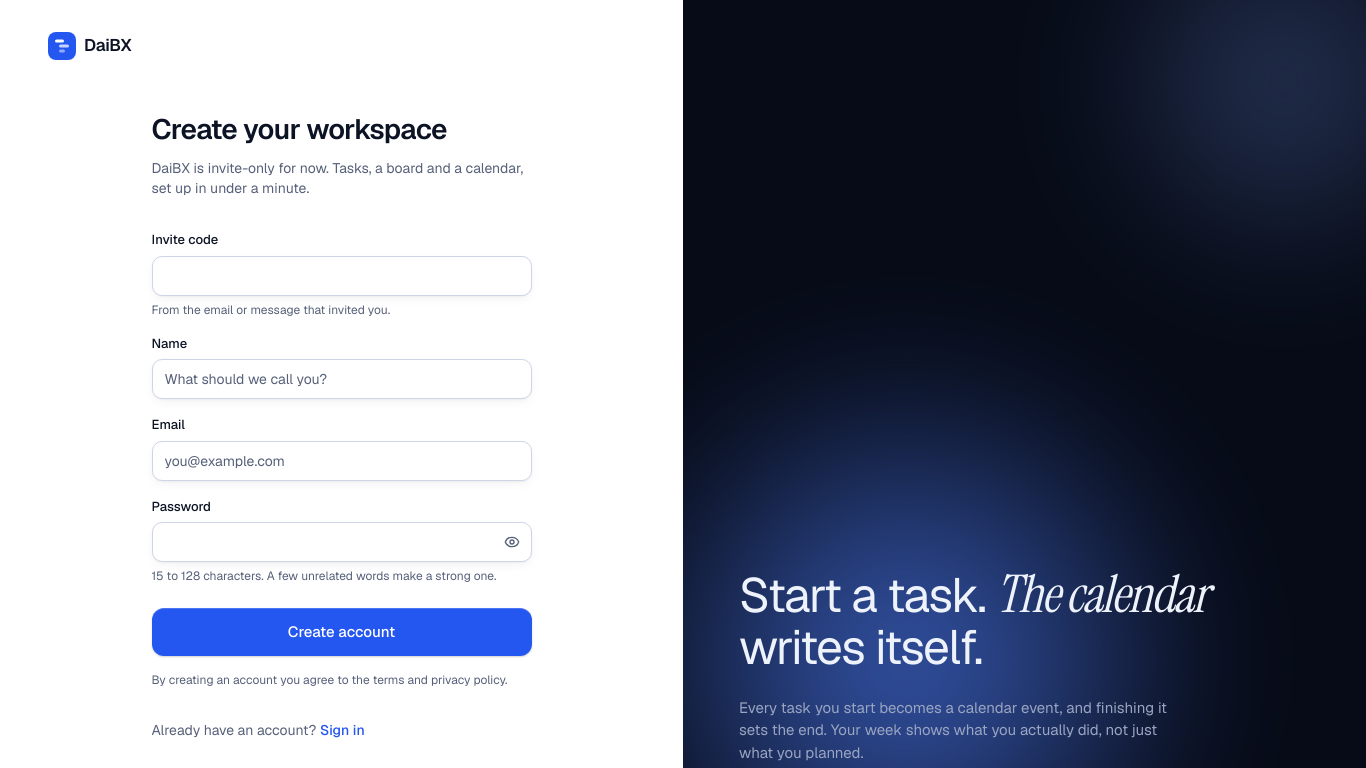
Test: an invalid invite shows the backend message
The width and height of the screenshot is (1366, 768).
Type "K7QM-2XRD-9FTB-0011" into the field labelled "Invite code" at [342, 276], box [152, 256, 532, 296]
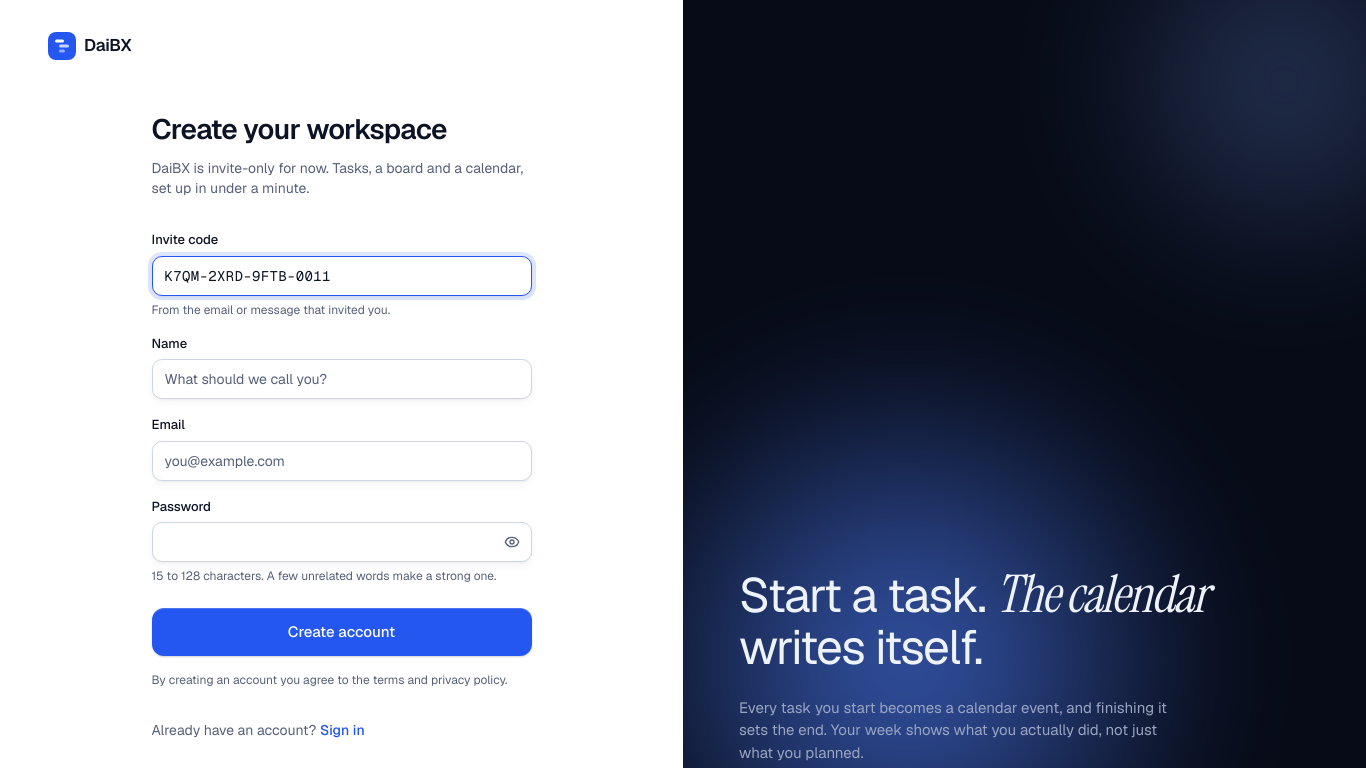
Type "Shan Padayhag" into the field labelled "Name" at [342, 379], box [152, 359, 532, 399]
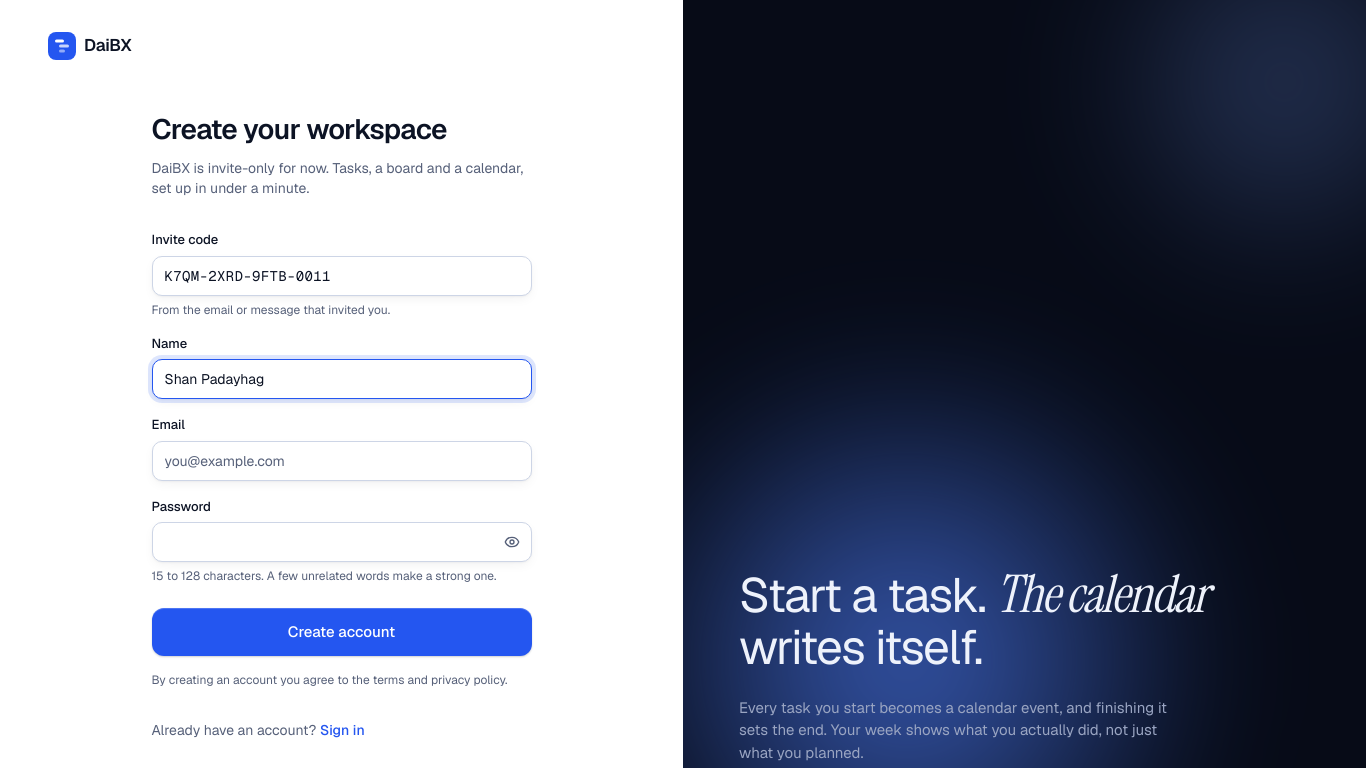
Type "shan@daibx.test" into the field labelled "Email" at [342, 460], box [152, 440, 532, 480]
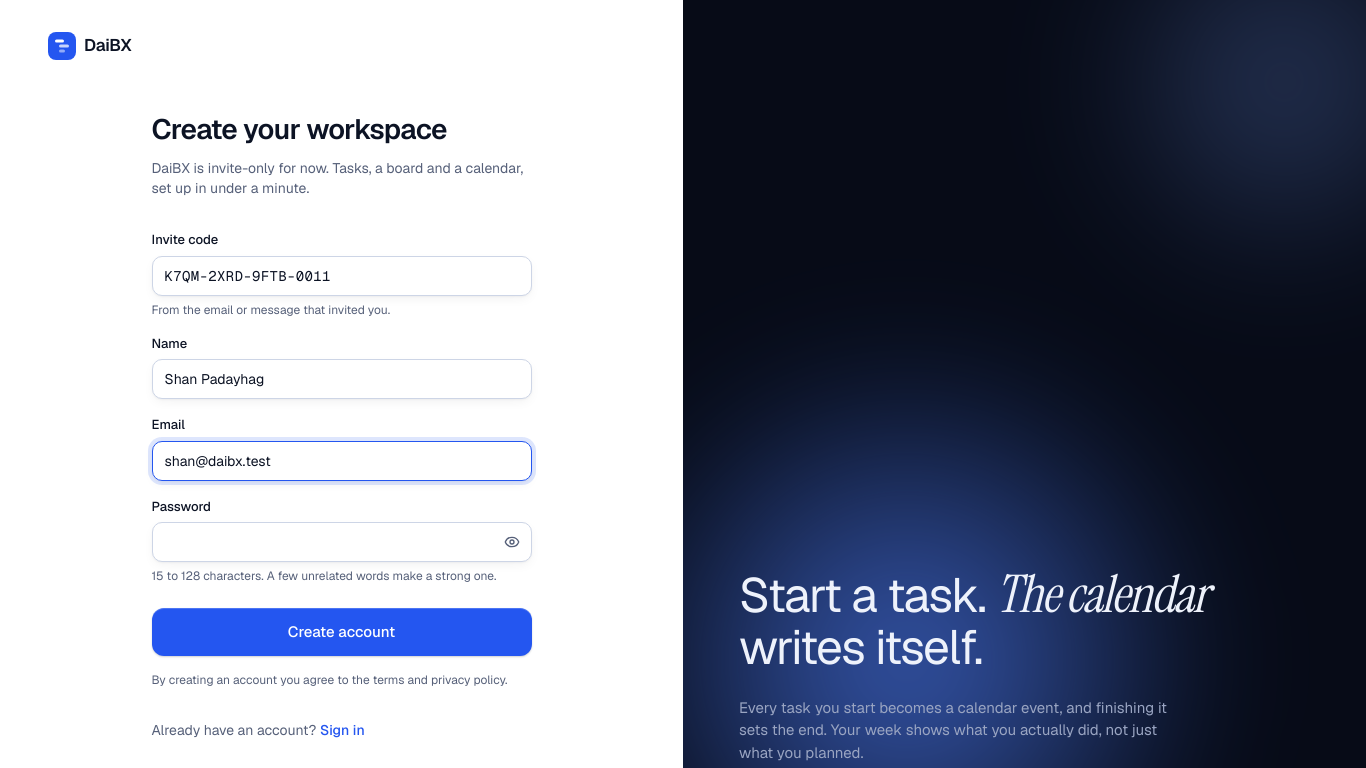
Type "violet lantern drifts past seven quiet docks" into the password field labelled "Password" at [342, 542], box [152, 522, 532, 562]
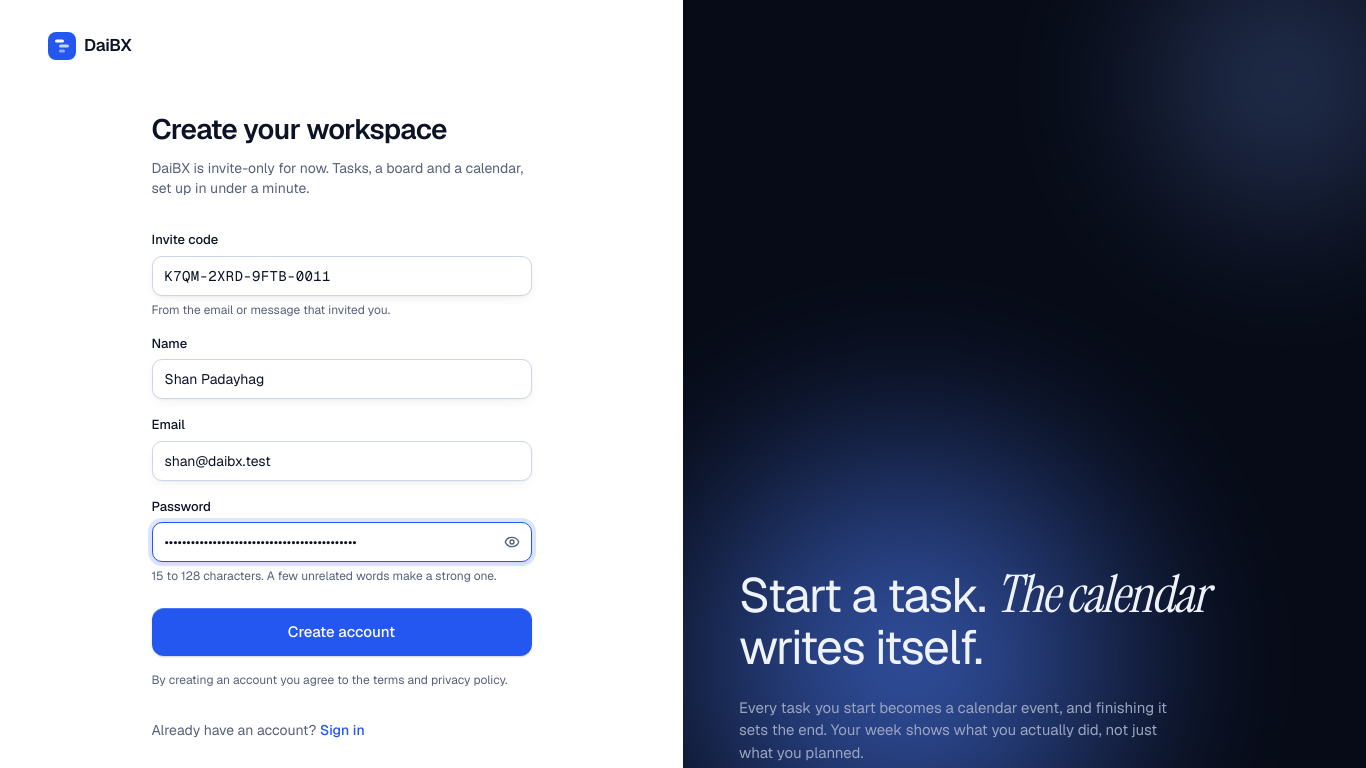
Click the button "Create account" at [342, 632], box [152, 608, 532, 656]
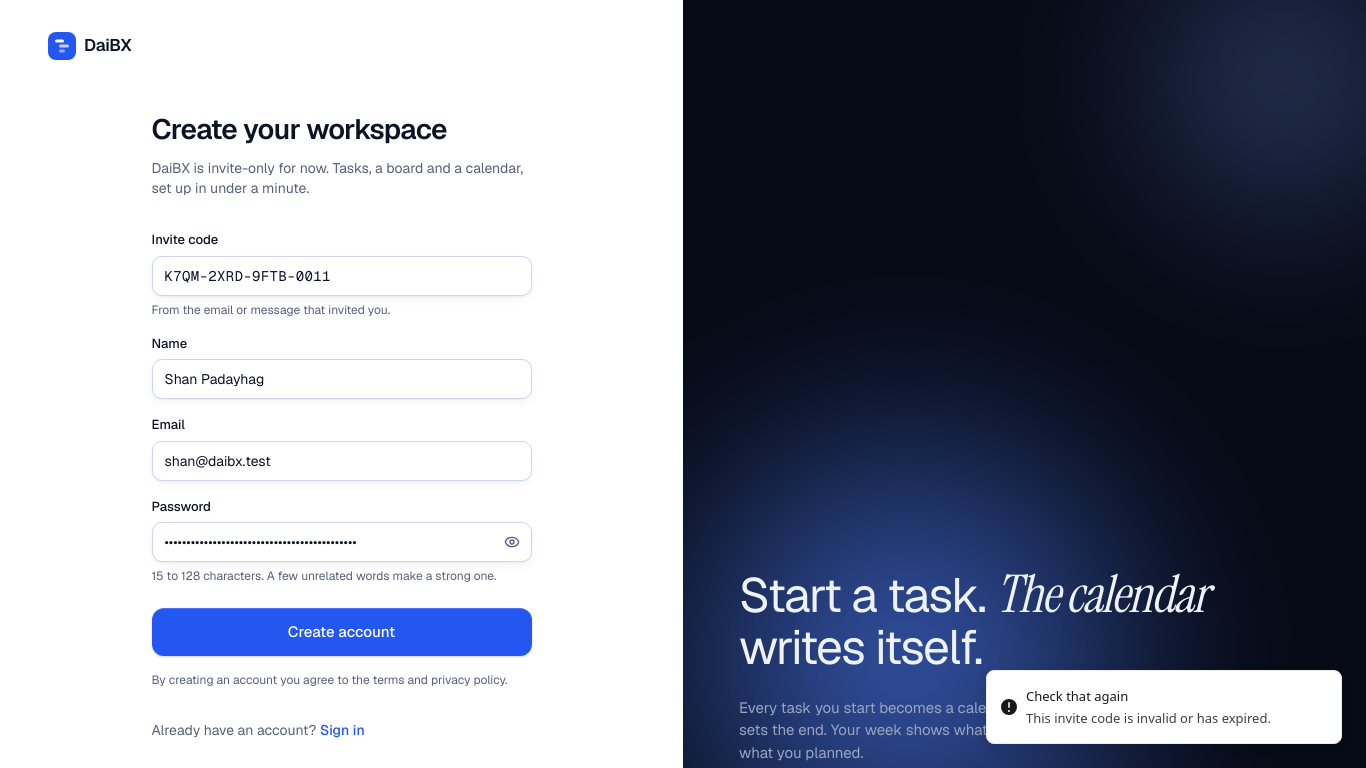
expect the text "This invite code is invalid or has expired." is shown: met, box [1026, 709, 1271, 727]
